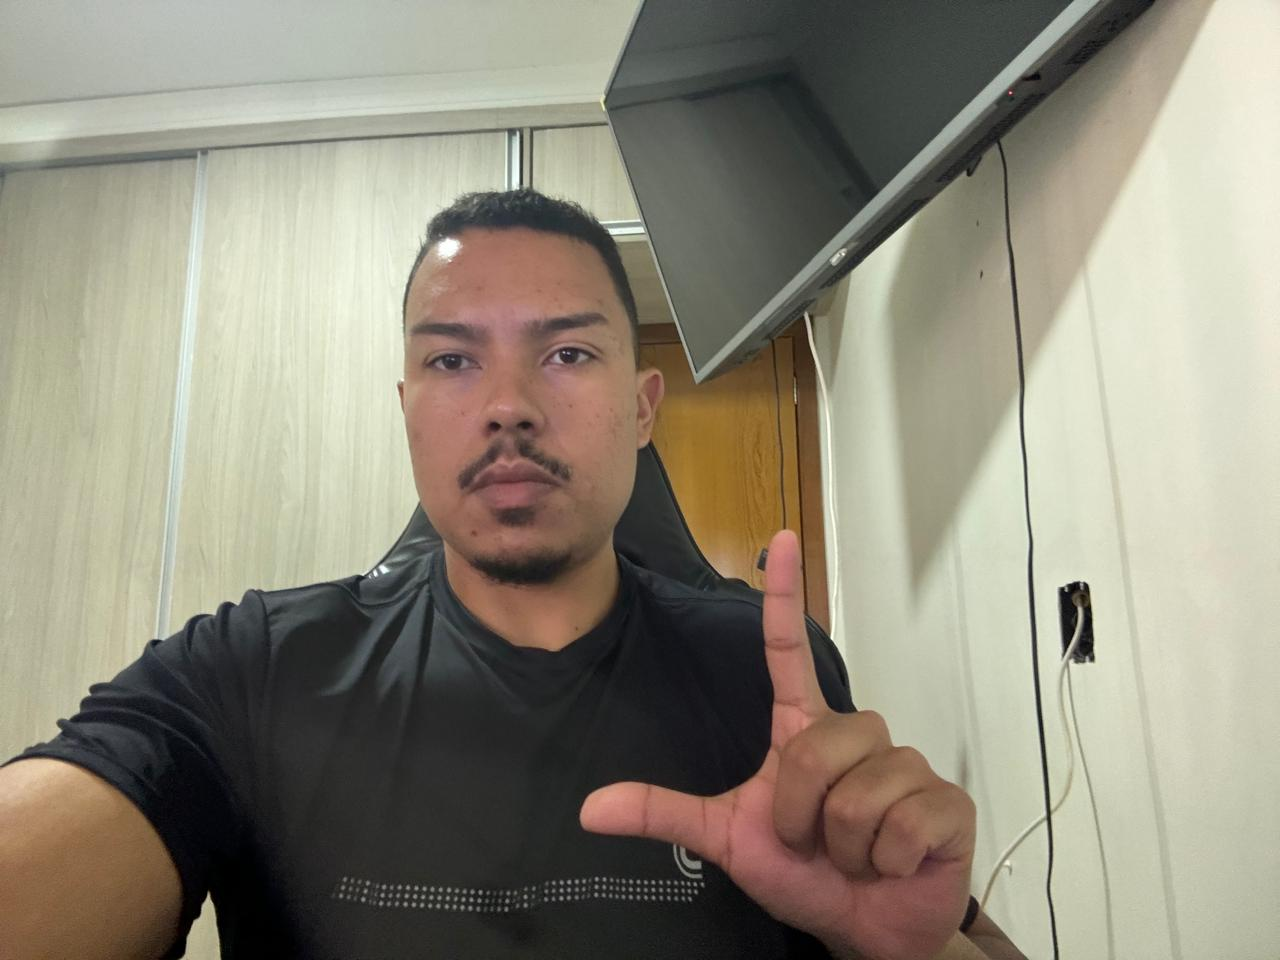l: (566, 518, 980, 957)
